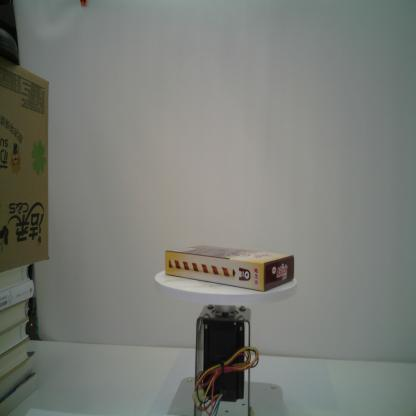Dessert: (160, 242, 296, 295)
